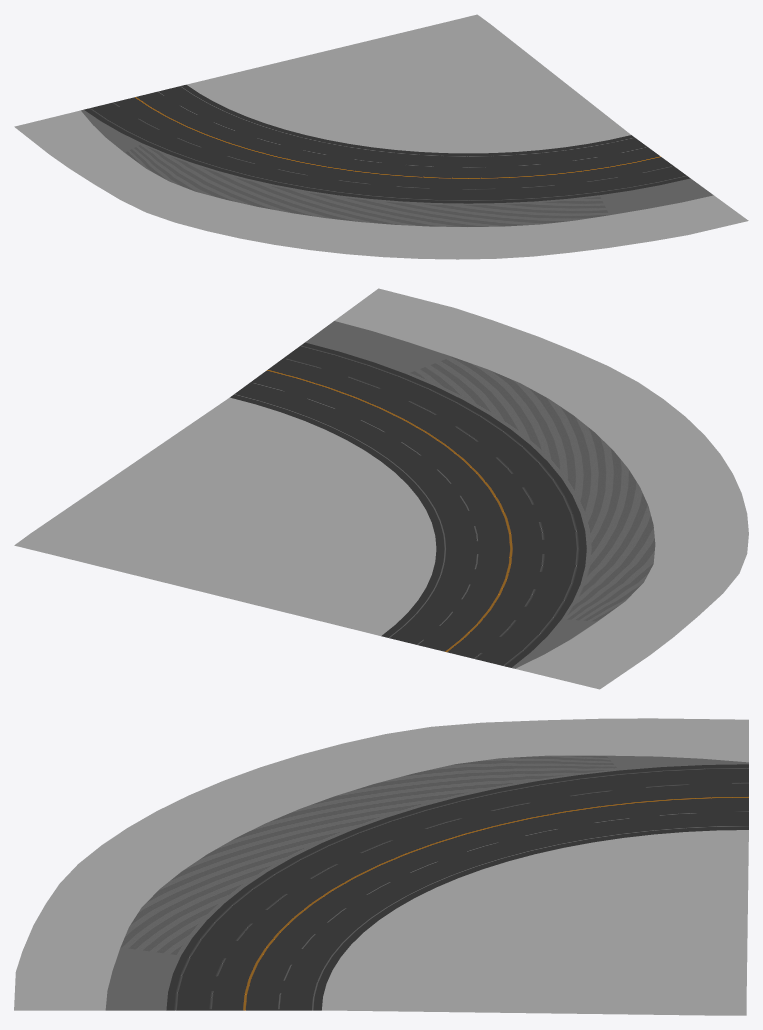
Rendered from Big_turn2.fbx.
The picture shows the model from 3 angles, top to bottom: view 1: azimuth 30°, elevation 25°; view 2: azimuth 150°, elevation 25°; view 3: azimuth 270°, elevation 25°; orthographic projection. The views are drawn at different scales.
Visible parts, largest first — view 1: polySurface36, polySurface35, polySurface34, polySurface371; view 2: polySurface36, polySurface35, polySurface34, polySurface371; view 3: polySurface36, polySurface35, polySurface34, polySurface371.
Boxes of the visible parts, x1=… form: polySurface36: x1=187, y1=14, x2=630, y2=153; polySurface35: x1=84, y1=84, x2=690, y2=203; polySurface34: x1=14, y1=110, x2=748, y2=259; polySurface371: x1=81, y1=109, x2=713, y2=226; polySurface36: x1=14, y1=397, x2=436, y2=635; polySurface35: x1=230, y1=342, x2=586, y2=667; polySurface34: x1=334, y1=288, x2=748, y2=689; polySurface371: x1=305, y1=321, x2=655, y2=668; polySurface36: x1=322, y1=830, x2=748, y2=1015; polySurface35: x1=166, y1=764, x2=748, y2=1010; polySurface34: x1=14, y1=718, x2=748, y2=1010; polySurface371: x1=105, y1=755, x2=748, y2=1010.
Size of the model in its own units: 8901 by 0.000122 by 9303.
